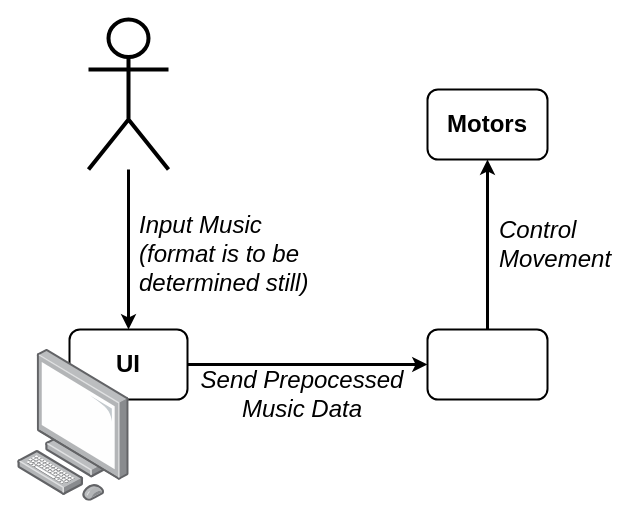
The diagram is 644 pixels wide and 518 high, and some of its shapes have lost their labels. The shapes that lost their labels are listed below. From the top down, each one's box as (x1, y1, x2, y2) in pixels, then its label:
(86, 17, 170, 171): User
(426, 328, 548, 400): Arduino
